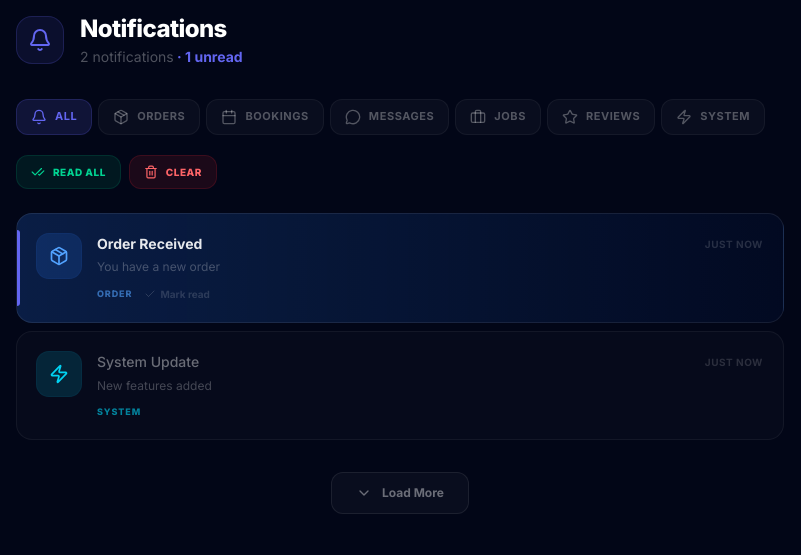
Test: Notifications Page › handles pagination with "Load More"
Click the button "Load More" at {"x": 400, "y": 494}, box [331,472,469,514]
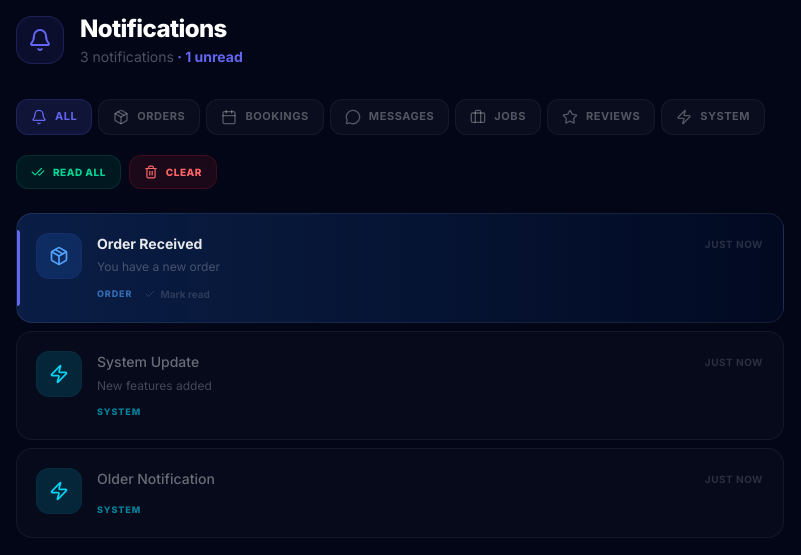
expect the text "Older Notification" is shown: met, box [97,470,215,489]
